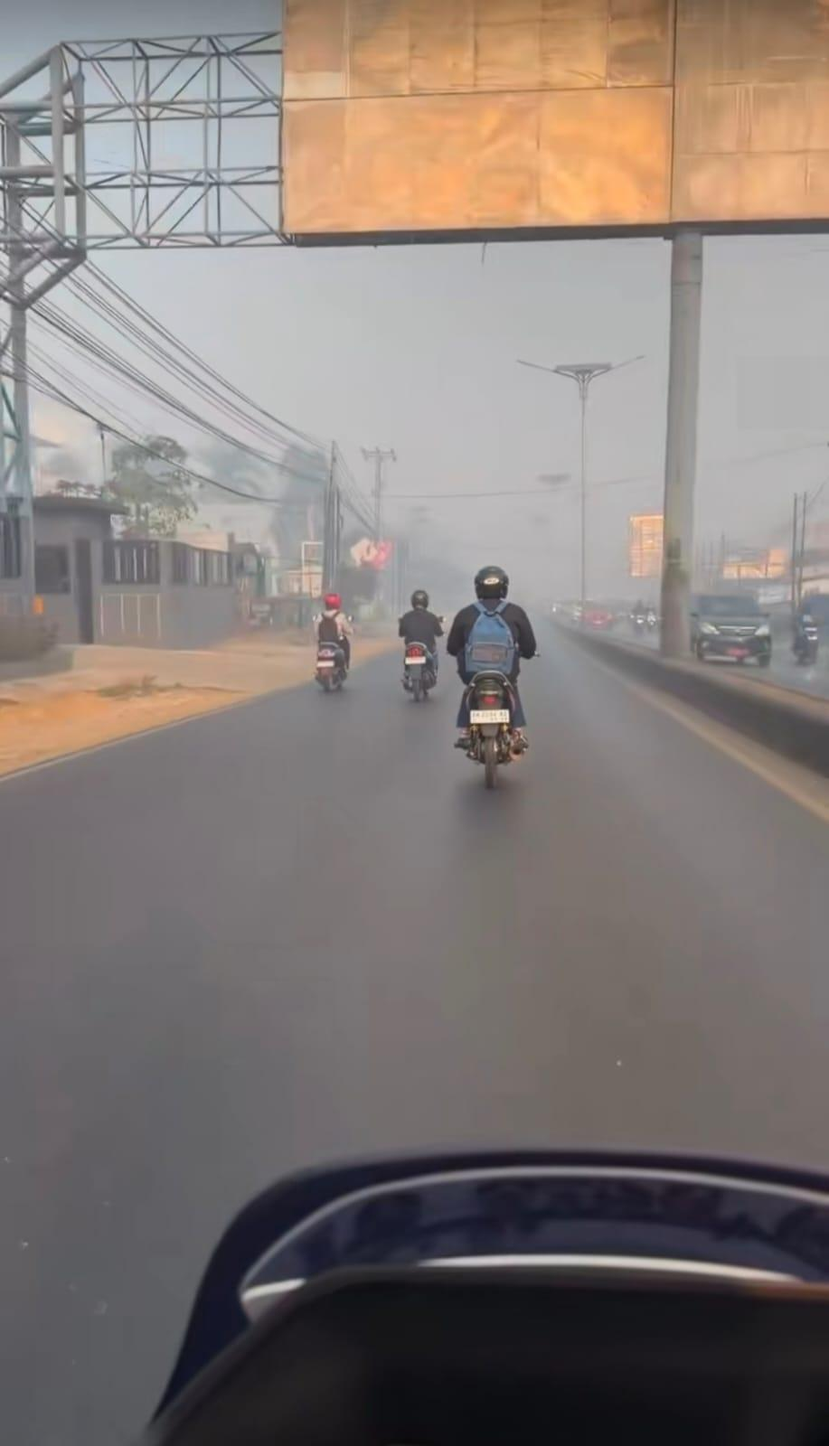Deteksi-Objek-Citra-Berasap: (33, 371, 829, 642)
Gedung: (0, 492, 316, 649)
Kendaraan: (455, 657, 529, 790), (688, 592, 774, 669), (399, 636, 440, 703), (313, 636, 351, 693), (795, 609, 820, 667), (580, 607, 614, 632), (646, 605, 662, 637), (630, 606, 647, 636)
Manusia: (446, 565, 539, 751), (399, 589, 445, 684), (315, 592, 353, 676), (795, 601, 819, 650)
Vegetasi: (103, 434, 205, 543)
